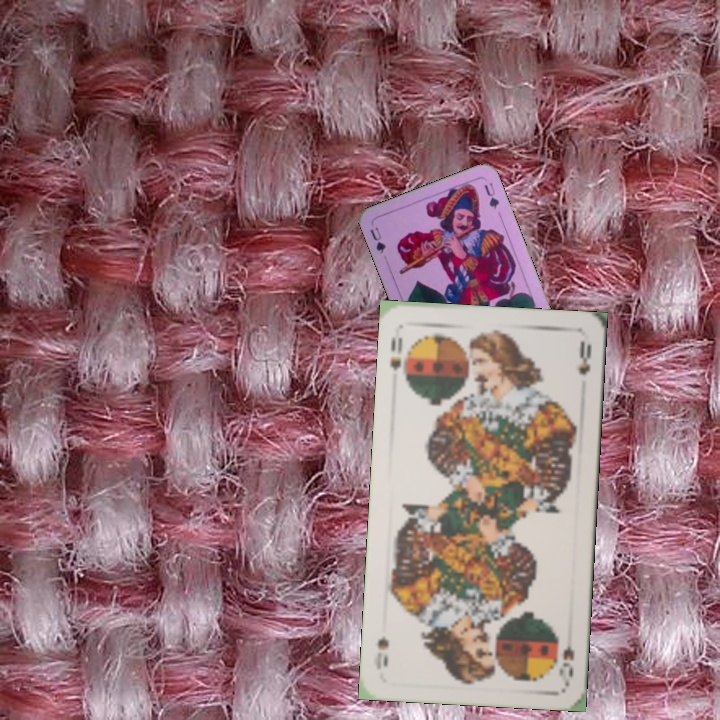GU: (366, 223, 388, 256)
SO: (555, 641, 577, 683), (385, 333, 405, 373)
